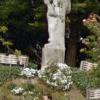Statue: (36, 2, 73, 69)
